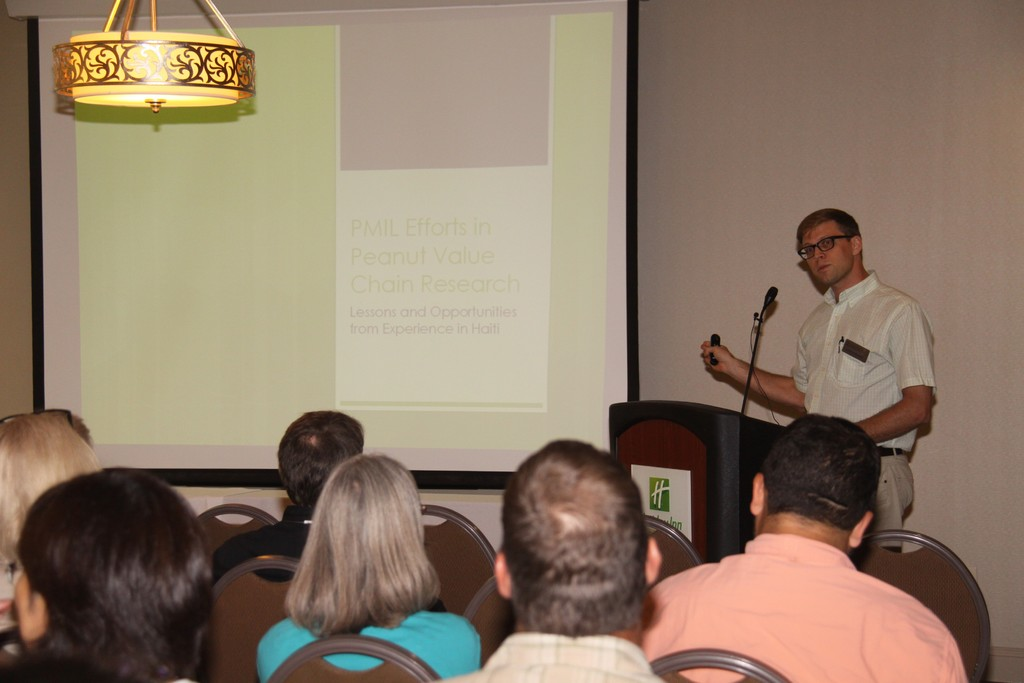Human_hand: (699, 340, 725, 372)
